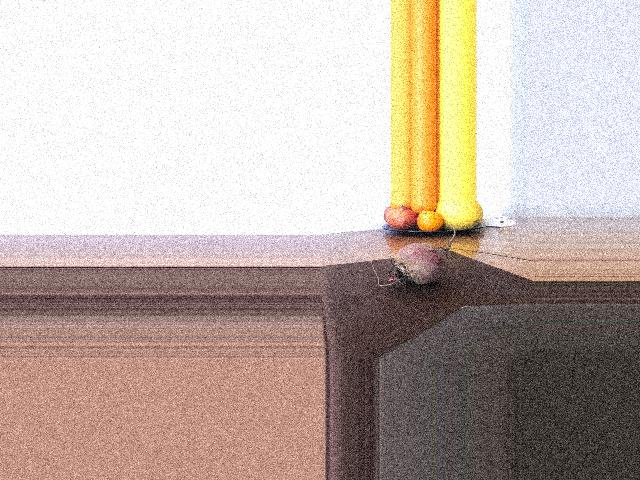beet: (371, 223, 456, 287)
